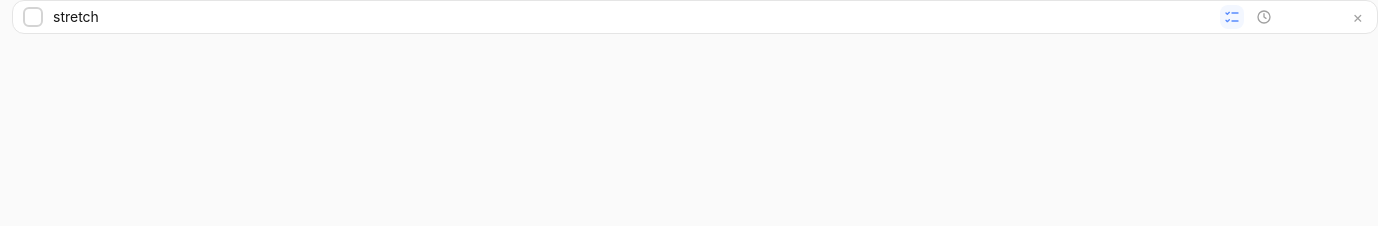
Test: the checklist count on a task row › is spelled out under its button once the row is clicked into (CHK-5, UI-27)
The width and height of the screenshot is (1378, 226).
Click the list item at (695, 17), box [12,0,1377,34]
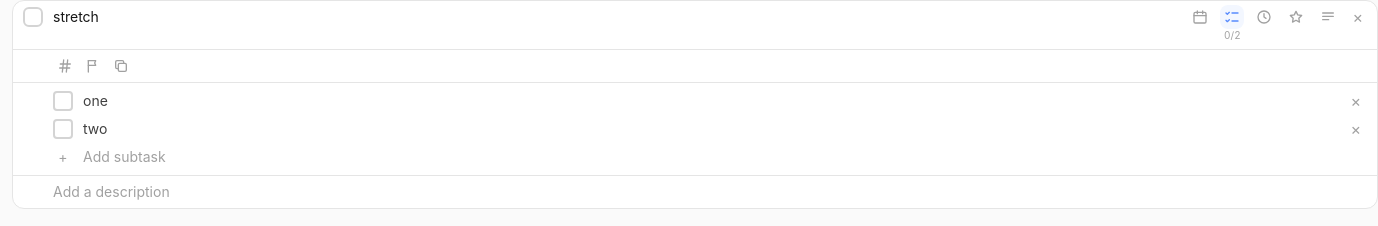
Expected: the text "0/2" is shown, [1224,29,1241,45]
